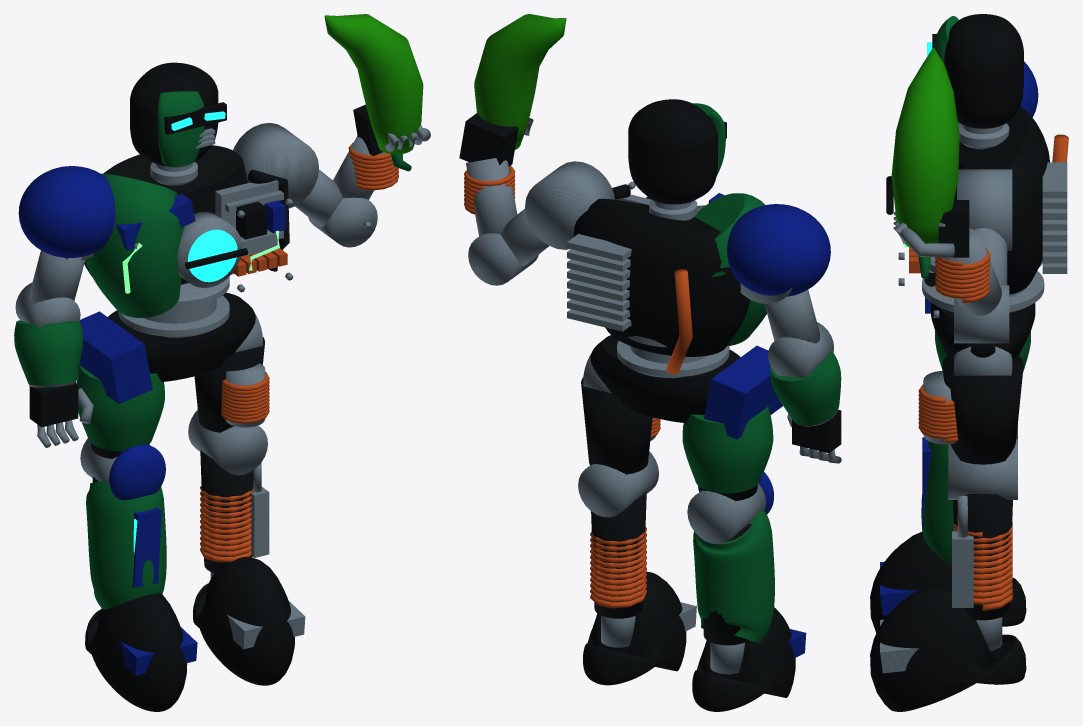
The model's file is robot.glb.
3 renders of one model, left to right at view 1: azimuth 30°, elevation 25°; view 2: azimuth 150°, elevation 25°; view 3: azimuth 270°, elevation 25°, orthographic. The views are drawn at different scales.
Parts seen in each view (by area): view 1: ARMOR_emerald_half_cuirass, MECH_full_foot, ARMOR_full_foot, CHILI_curved_glossy_fruit, ARMOR_left_pauldron, ARMOR_tapered_shin_shell, MECH_pelvis_casting, ARMOR_hip_fender, ARMOR_thigh_shell, MECH_original_helmet, MECH_right_shoulder, ARMOR_left_forearm_shell (+31 smaller); view 2: MECH_thorax_backbone, MECH_original_helmet, ARMOR_left_pauldron, ARMOR_tapered_shin_shell, CHILI_curved_glossy_fruit, MECH_full_foot, ARMOR_full_foot, ARMOR_thigh_shell, MECH_pelvis_casting, MECH_right_shoulder, MECH_thigh_actuator, ARMOR_hip_fender (+29 smaller); view 3: MECH_full_foot, CHILI_curved_glossy_fruit, MECH_original_helmet, MECH_thorax_backbone, MECH_thigh_actuator, ARMOR_full_foot, MECH_right_shoulder, MECH_shin_copper_winding, ARMOR_tapered_shin_shell, MECH_shin_structure, MECH_knee_bearing, MECH_pelvis_casting (+22 smaller).
Boxes of the visible parts, <box> form: ARMOR_emerald_half_cuirass: <box>85,173,184,317</box>; MECH_full_foot: <box>193,557,294,685</box>; ARMOR_full_foot: <box>85,593,187,711</box>; CHILI_curved_glossy_fruit: <box>324,14,423,154</box>; ARMOR_left_pauldron: <box>18,166,115,257</box>; ARMOR_tapered_shin_shell: <box>86,480,166,609</box>; MECH_pelvis_casting: <box>108,292,255,381</box>; ARMOR_hip_fender: <box>78,311,152,403</box>; ARMOR_thigh_shell: <box>76,366,164,451</box>; MECH_original_helmet: <box>130,62,218,165</box>; MECH_right_shoulder: <box>233,123,318,208</box>; ARMOR_left_forearm_shell: <box>14,320,83,385</box>; MECH_thorax_backbone: <box>573,198,750,356</box>; MECH_original_helmet: <box>628,99,717,204</box>; ARMOR_left_pauldron: <box>727,204,830,296</box>; ARMOR_tapered_shin_shell: <box>693,510,774,642</box>; CHILI_curved_glossy_fruit: <box>474,14,566,149</box>; MECH_full_foot: <box>583,571,686,685</box>; ARMOR_full_foot: <box>692,607,795,711</box>; ARMOR_thigh_shell: <box>682,406,773,493</box>; MECH_pelvis_casting: <box>590,335,740,422</box>; MECH_right_shoulder: <box>525,161,614,249</box>; MECH_thigh_actuator: <box>581,377,652,474</box>; ARMOR_hip_fender: <box>704,345,782,439</box>; MECH_full_foot: <box>870,585,1026,711</box>; CHILI_curved_glossy_fruit: <box>891,48,959,247</box>; MECH_original_helmet: <box>944,14,1023,128</box>; MECH_thorax_backbone: <box>955,106,1049,294</box>; MECH_thigh_actuator: <box>942,355,1023,464</box>; ARMOR_full_foot: <box>870,532,1026,632</box>; MECH_right_shoulder: <box>957,169,1012,250</box>; MECH_shin_copper_winding: <box>953,519,1012,610</box>; ARMOR_tapered_shin_shell: <box>921,441,953,565</box>; MECH_shin_structure: <box>953,494,1012,620</box>; MECH_knee_bearing: <box>948,439,1017,499</box>; MECH_pelvis_casting: <box>930,302,1035,359</box>.
Bounding box in the file's own units: 1.68 × 2.65 × 0.6835.
Materials: 8 (5 with a texture image).
